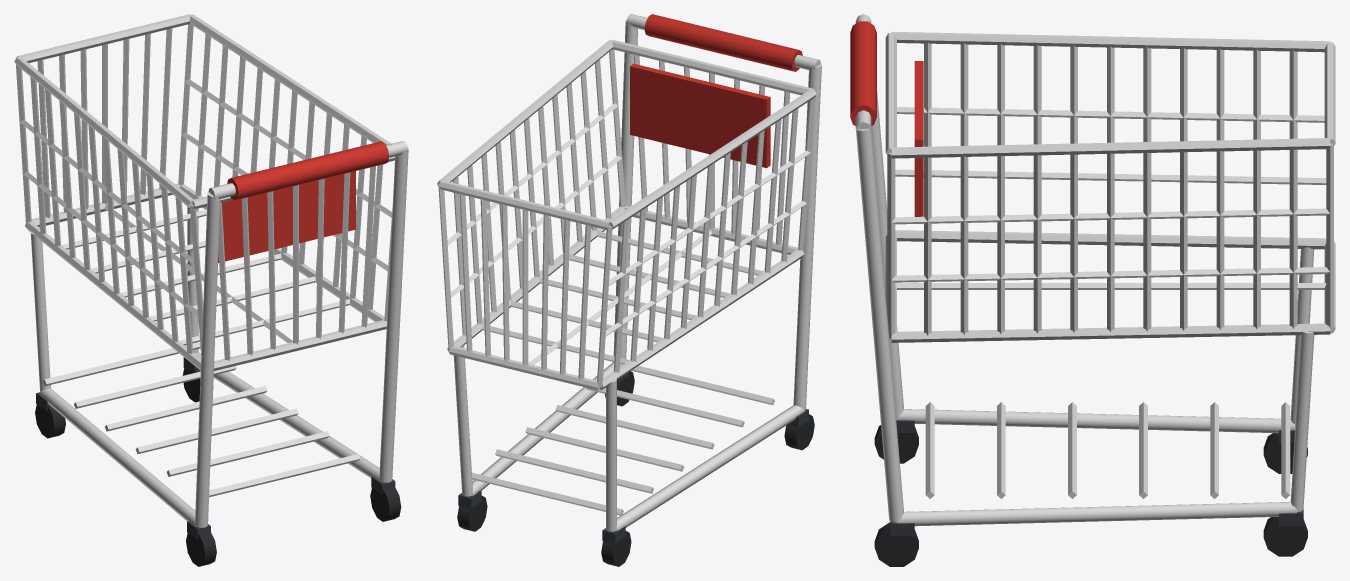
Rendered from trolley.glb.
The picture shows the model from 3 angles, left to right: view 1: azimuth 30°, elevation 25°; view 2: azimuth 150°, elevation 25°; view 3: azimuth 270°, elevation 25°; orthographic projection. The views are drawn at different scales.
Parts seen in each view (by area): view 1: trolley; view 2: trolley; view 3: trolley.
Boxes of the visible parts, box(x1,y1,x2,y2) form: trolley: box(14, 14, 408, 566); trolley: box(437, 14, 821, 566); trolley: box(850, 14, 1335, 566).
Bounding box in the file's own units: 2.56 × 4.45 × 4.37.
